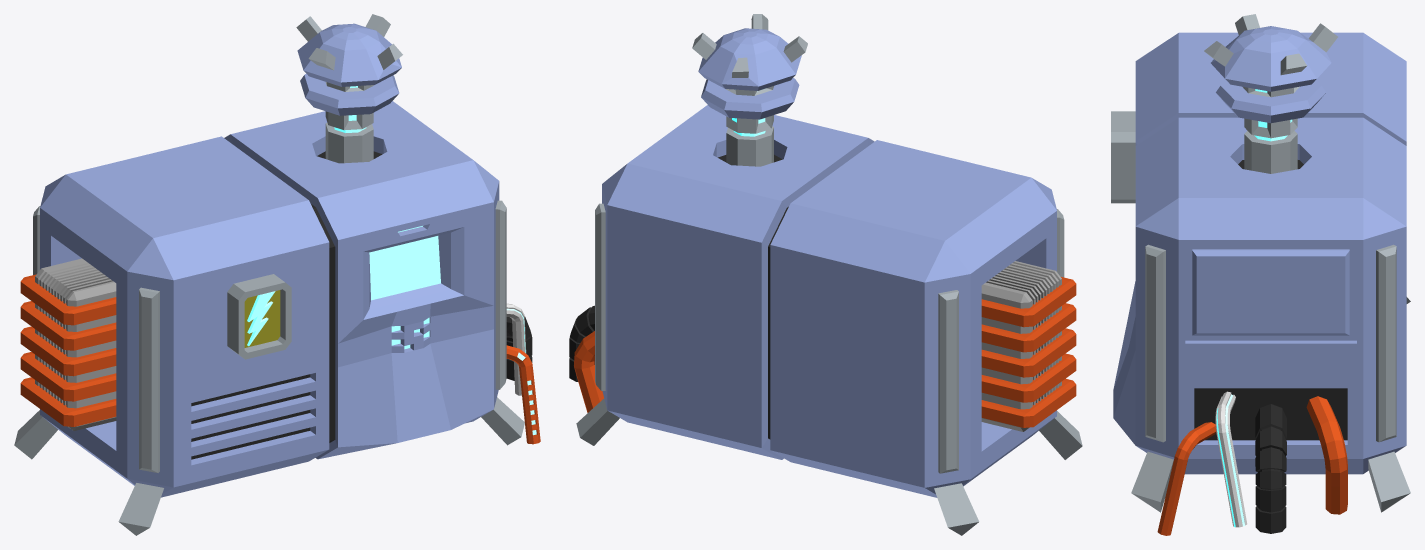
Rendered from GENERATOR.fbx.
3 views of the same model, side by side, from view 1: azimuth 30°, elevation 25°; view 2: azimuth 150°, elevation 25°; view 3: azimuth 270°, elevation 25° (orthographic). The views are drawn at different scales.
Visible parts, largest first — view 1: Cube, Cube.004, Cube.009, Cube.008, Cube.001, Cube.002, Cube.005, Cylinder.002, Cube.006, Cylinder.003, Cube.007, Cylinder.001; view 2: Cube, Cube.004, Cube.009, Cube.008, Cylinder.002, Cylinder.001, Cube.005; view 3: Cube, Cube.004, Cube.003, Cylinder.002, Cylinder.001, Cylinder.003, Cylinder.004.
Part boxes in pixels (box(x1,y1,x2,y2)): Cube: box(40, 23, 499, 497); Cube.004: box(14, 14, 524, 535); Cube.009: box(20, 274, 116, 426); Cube.008: box(35, 258, 116, 430); Cube.001: box(334, 86, 440, 349); Cube.002: box(191, 374, 310, 459); Cube.005: box(311, 204, 335, 442); Cylinder.002: box(506, 345, 540, 444); Cube.006: box(244, 290, 280, 347); Cylinder.003: box(506, 303, 526, 395); Cube.007: box(247, 291, 275, 346); Cylinder.001: box(506, 316, 532, 380); Cube: box(602, 28, 1056, 497); Cube.004: box(576, 14, 1082, 535); Cube.009: box(981, 277, 1076, 427); Cube.008: box(981, 261, 1061, 431); Cylinder.002: box(574, 331, 603, 412); Cylinder.001: box(569, 305, 594, 381); Cube.005: box(768, 206, 788, 439); Cube: box(1113, 26, 1406, 474); Cube.004: box(1111, 14, 1410, 512); Cube.003: box(1194, 160, 1347, 440); Cylinder.002: box(1157, 396, 1347, 535); Cylinder.001: box(1255, 404, 1286, 533); Cylinder.003: box(1215, 391, 1247, 527); Cylinder.004: box(1216, 394, 1245, 527).
Size of the model in its own units: 604 by 483 by 303.
